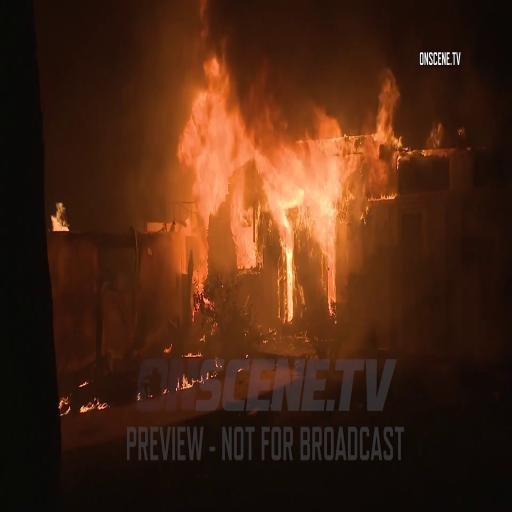fire: (166, 18, 341, 239)
